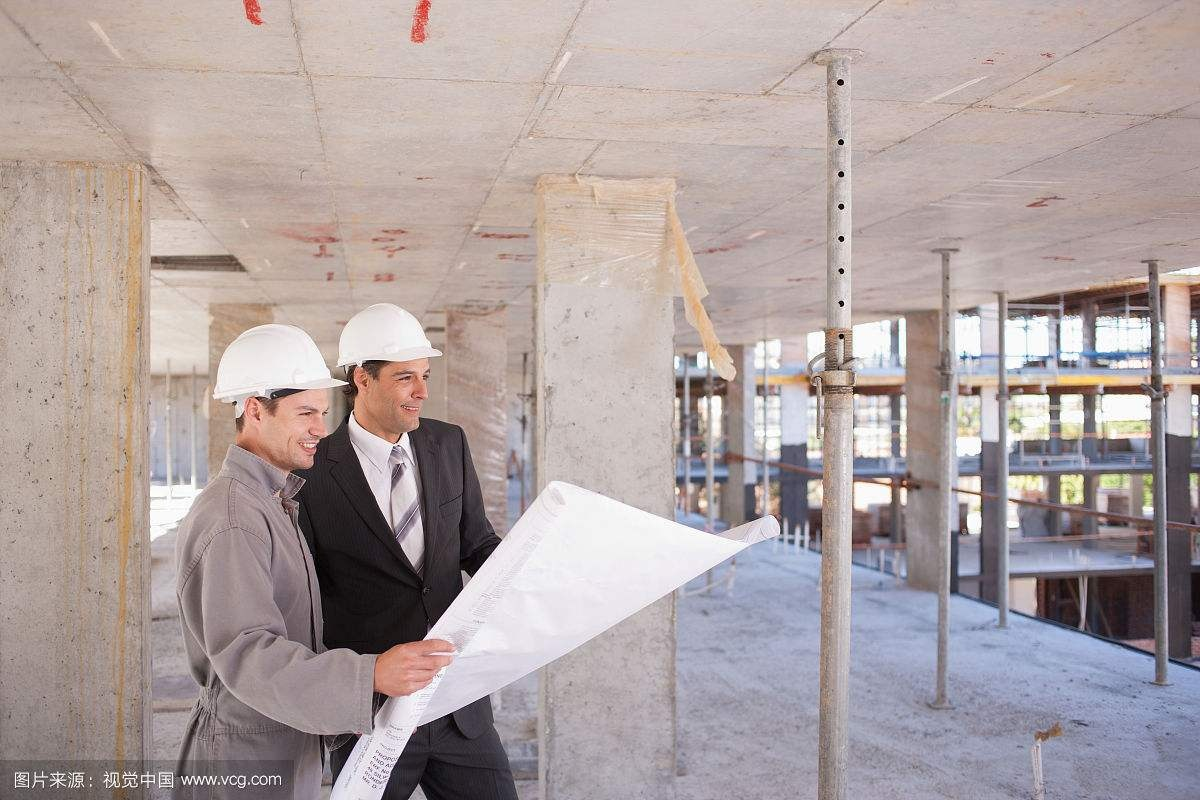white: (209, 317, 334, 471), (333, 300, 438, 441)
